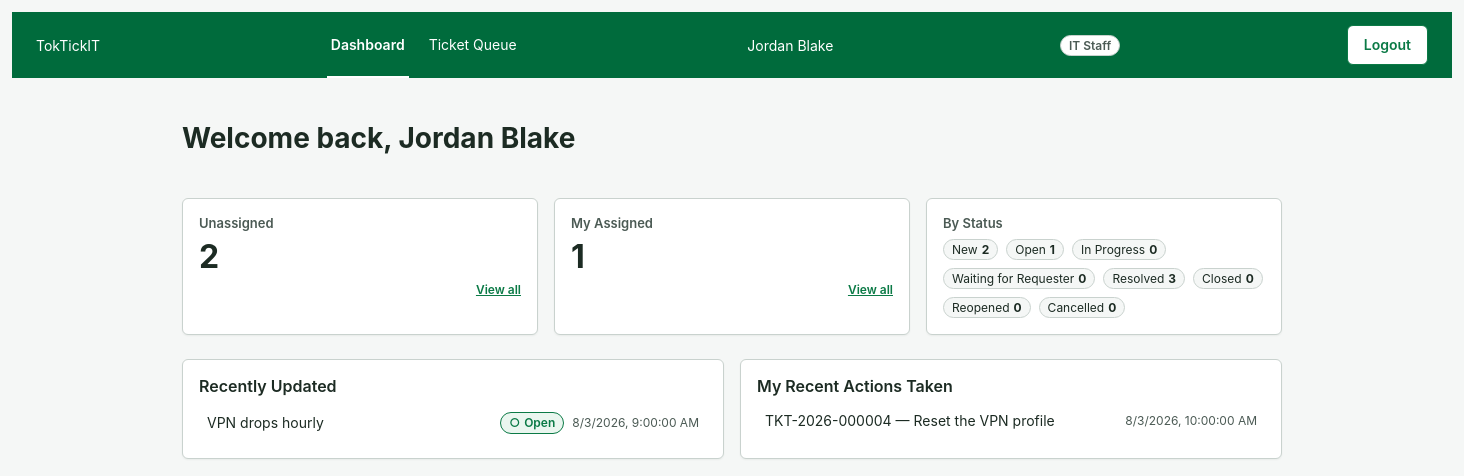
Scenario: IT Staff Dashboard (ui-spec.md §4.1) › clicking Unassigned opens the Queue with the same filter applied (BR-25)
Click the link with aria-label "View all: Unassigned".
click(498, 289)  # box left=476, top=282, right=521, bottom=297
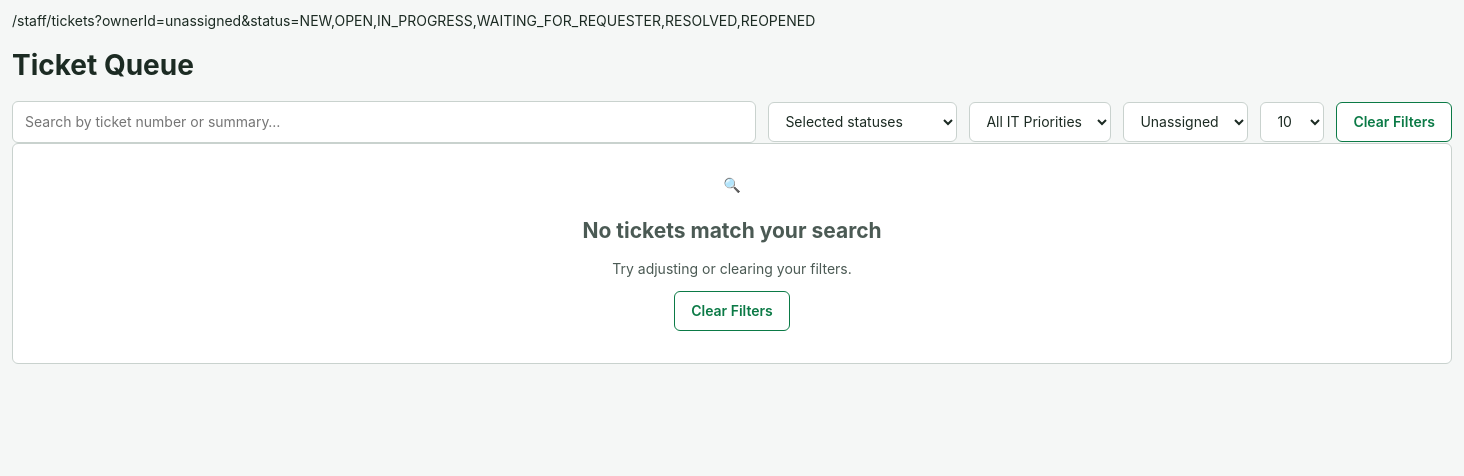
Check: the heading "Ticket Queue" is shown, box left=12, top=48, right=194, bottom=82
Check: the dropdown named "Owner" shows "Unassigned", box left=1123, top=102, right=1248, bottom=142
